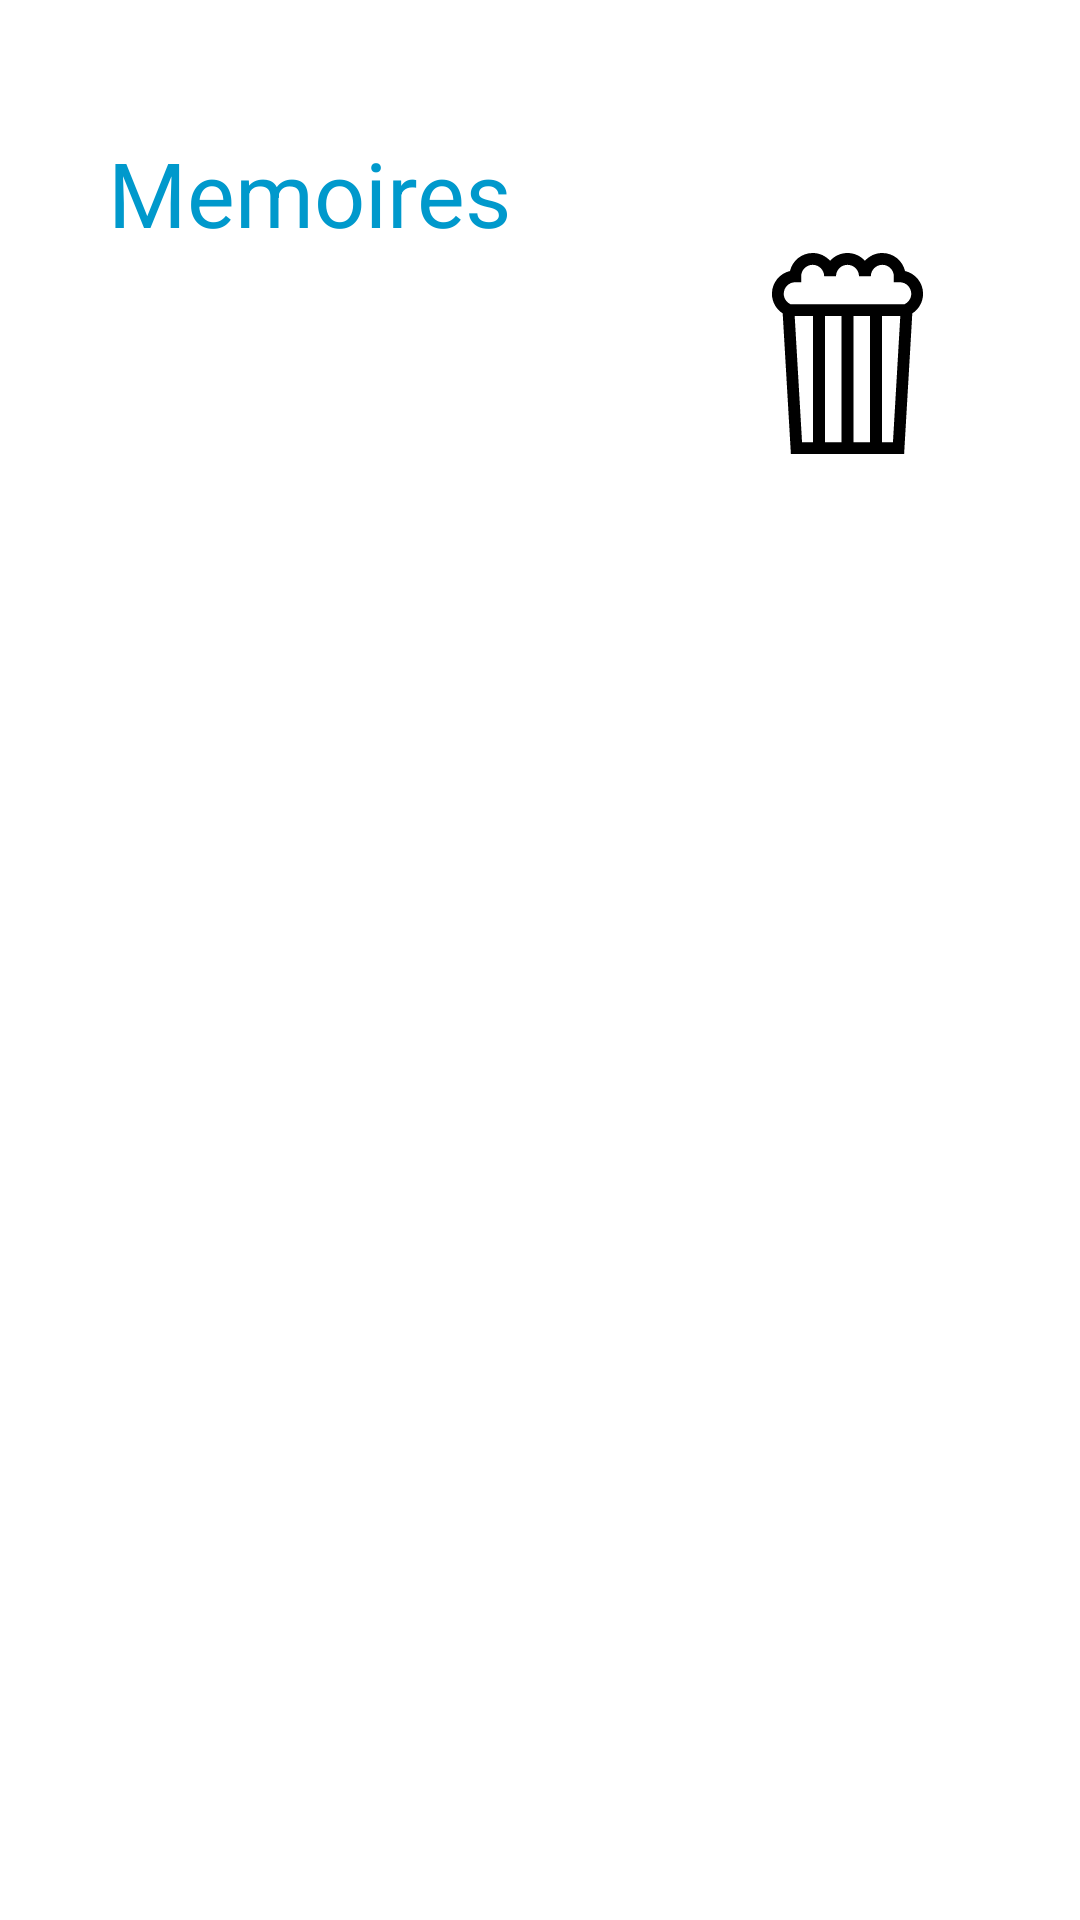

Where icons sit on this 1080*1920 app screen, as (x1, y1, x2, y2):
cinema marker: (772, 253, 923, 454)
